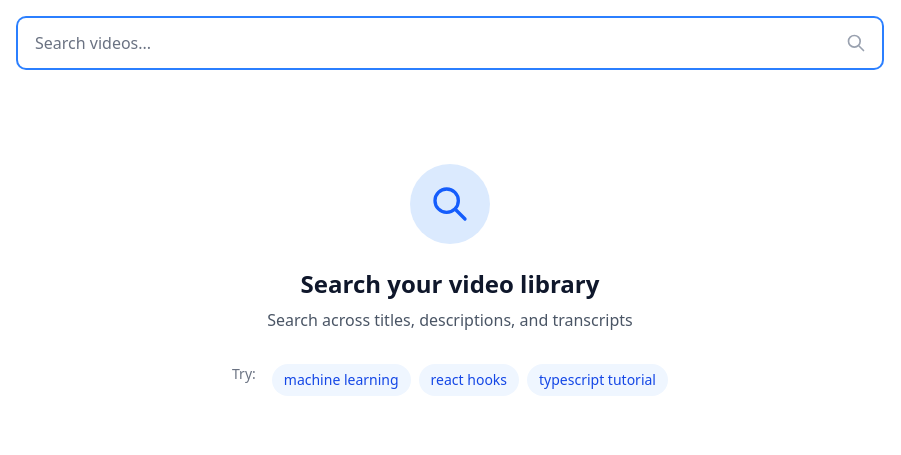
SearchPage Phase 6 Tests › T038: Static Results Tests › should show all title results at once without load more button
The width and height of the screenshot is (901, 455).
Type "test" into the search field at (450, 43), box [18,18,882,68]
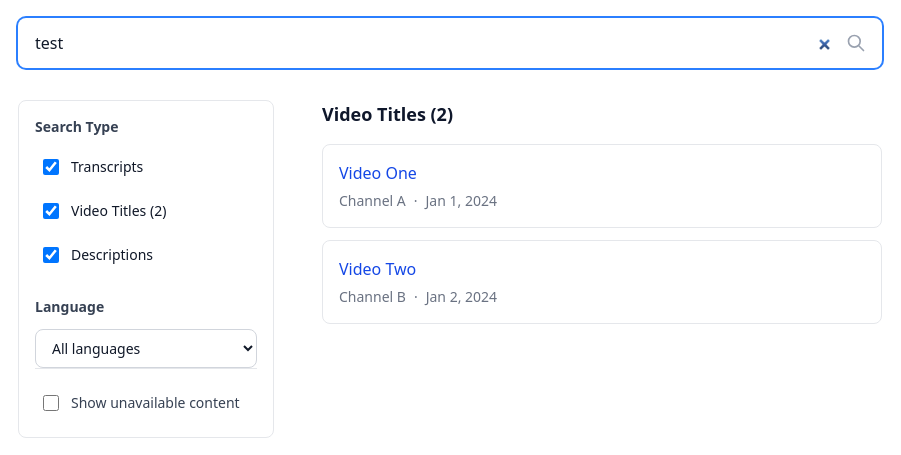
Expected: the link "Video One" is shown, [339,162,417,184]
Expected: the link "Video Two" is shown, [339,258,416,280]
Expected: the element named "Video Titles" is shown, [322,100,882,324]
